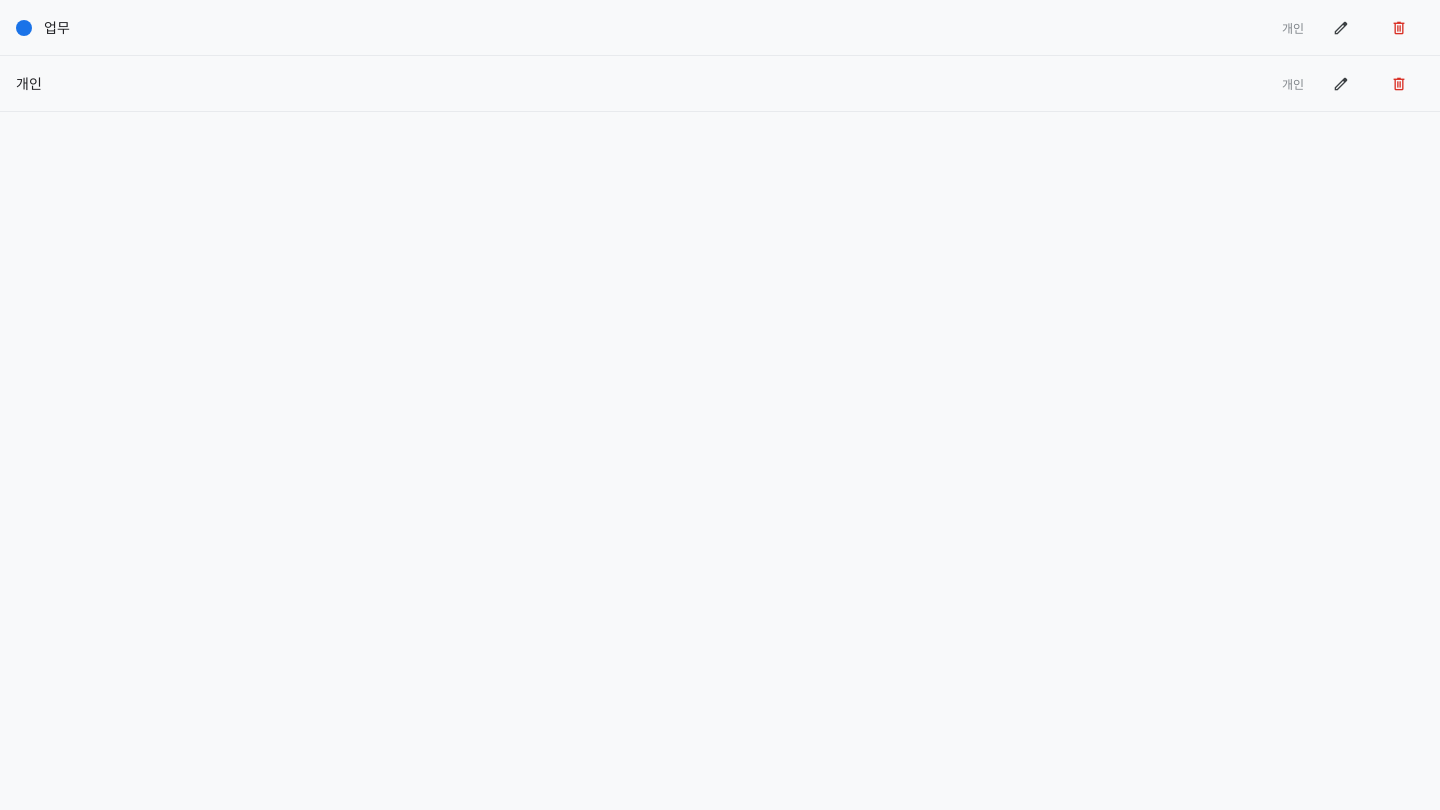
Test: CategoryList › 삭제 버튼 클릭 시 "속한 할일의 카테고리가 해제됩니다" Modal이 표시된다
Click the 3rd button: (1399, 28) [1374,12,1424,42]
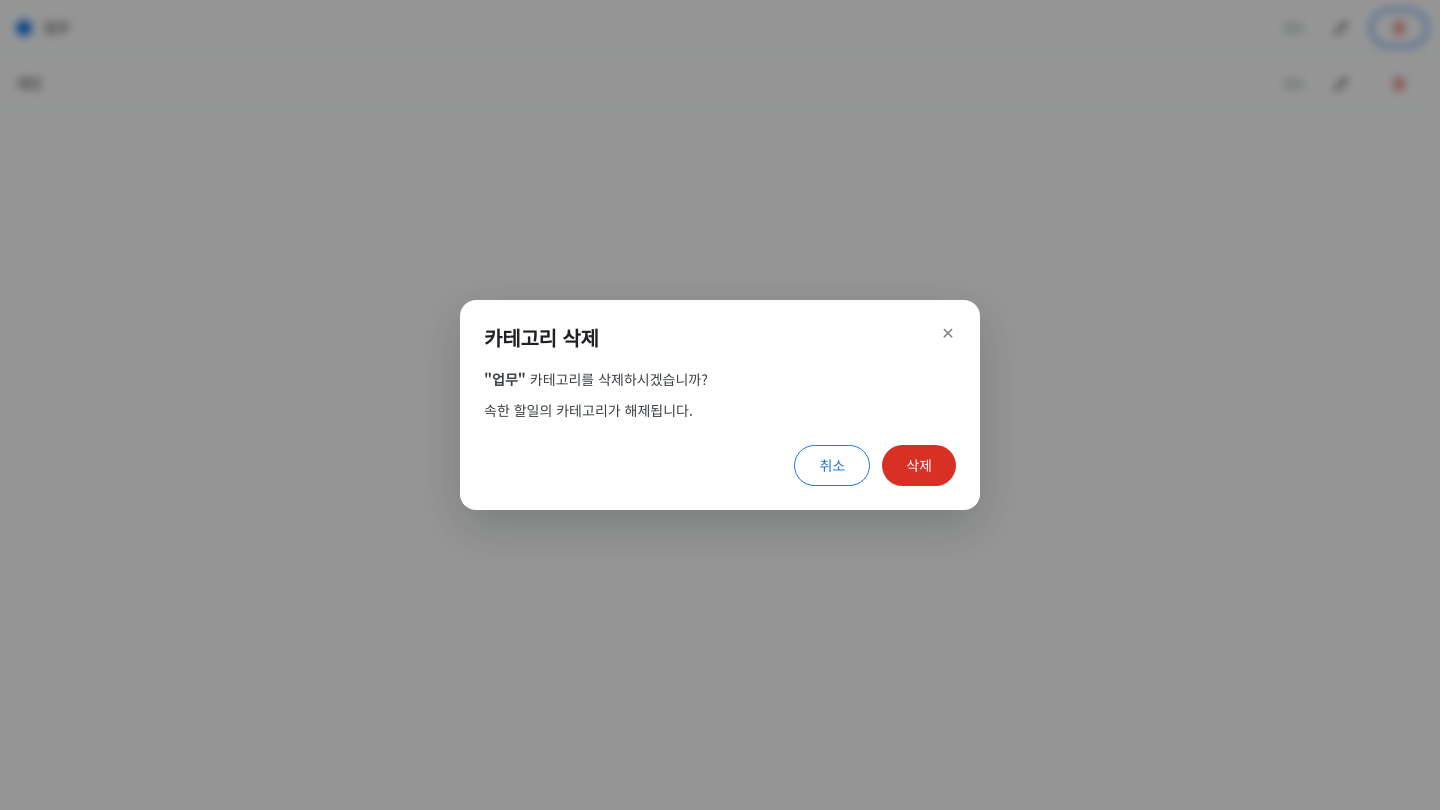
Now the text "속한 할일의 카테고리가 해제됩니다." is shown, box [484,400,693,420]
